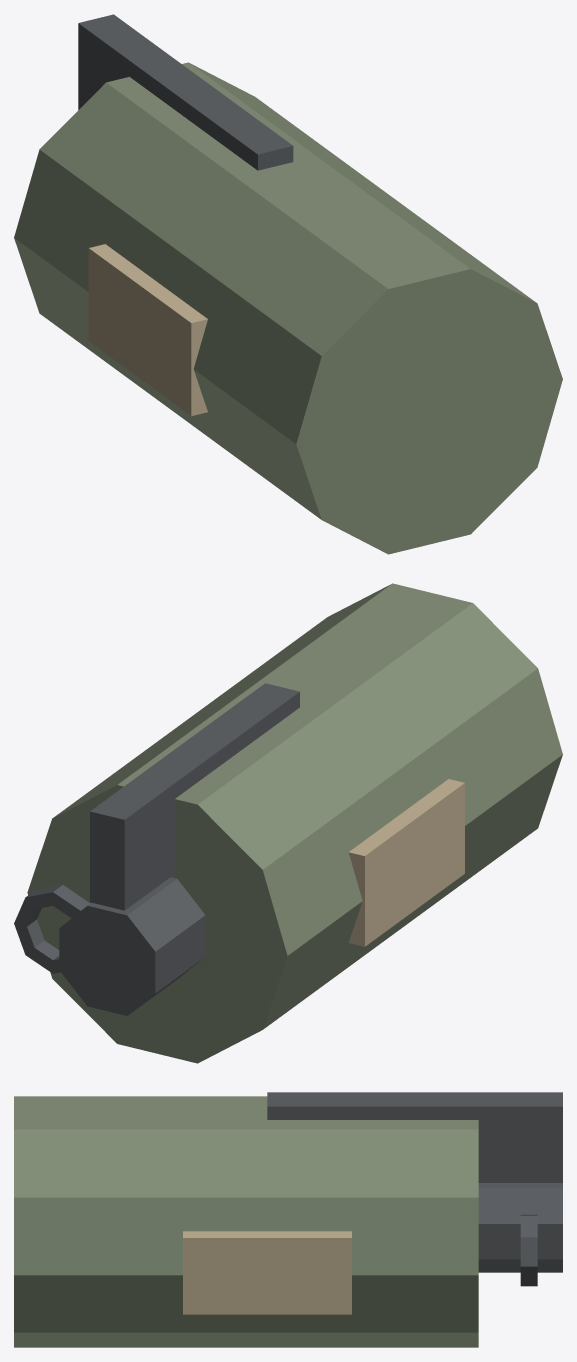
File: smoke.glb
3 renders of one model, top to bottom at view 1: azimuth 30°, elevation 25°; view 2: azimuth 150°, elevation 25°; view 3: azimuth 270°, elevation 25°, orthographic. The views are drawn at different scales.
Visible parts, largest first — view 1: body; view 2: body; view 3: body.
Part boxes in pixels (bbox=[...]): body: bbox=[14, 14, 562, 554]; body: bbox=[14, 583, 562, 1063]; body: bbox=[14, 1092, 562, 1347].
Bounding box in the file's own units: 0.061 × 0.0605 × 0.13.
